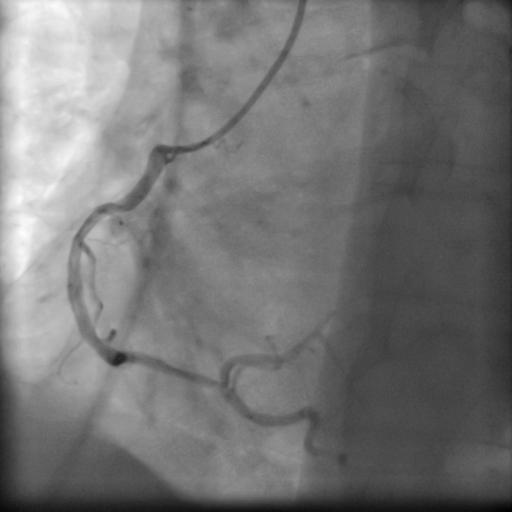Stenosis: (171, 360, 221, 393)
